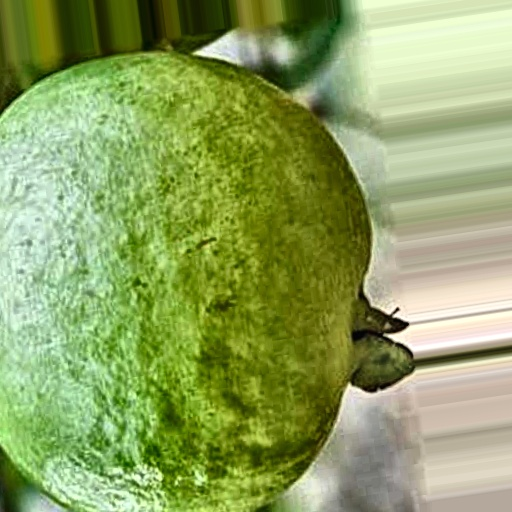guava: (15, 94, 475, 411)
